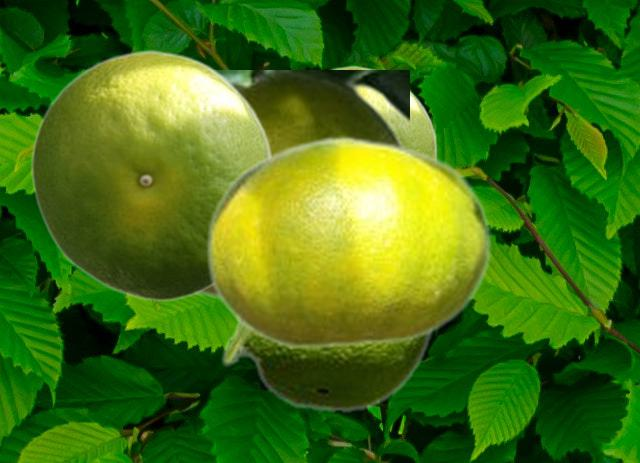dalandan: (205, 135, 490, 350), (30, 49, 272, 301), (188, 70, 408, 303), (219, 316, 435, 413), (327, 65, 436, 155)
